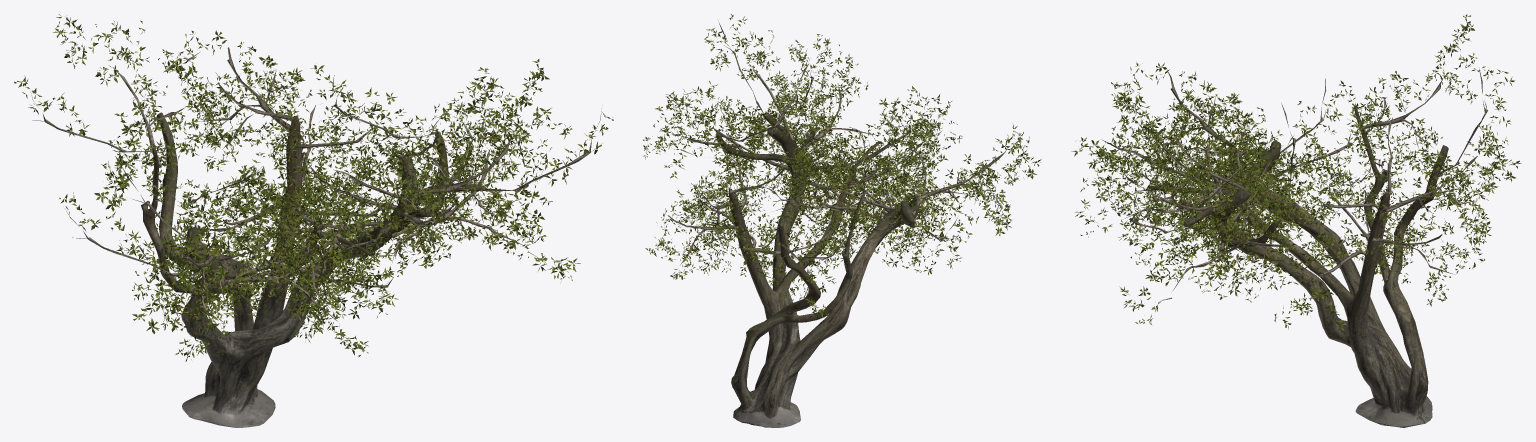
The model's file is tree.gltf.
3 views of the same model, side by side, from view 1: azimuth 30°, elevation 25°; view 2: azimuth 150°, elevation 25°; view 3: azimuth 270°, elevation 25° (orthographic). The views are drawn at different scales.
Visible parts, largest first — view 1: island_tree_02_LOD0; view 2: island_tree_02_LOD0; view 3: island_tree_02_LOD0.
Boxes of the visible parts, box(x1,y1,x2,y2) form: island_tree_02_LOD0: box(14, 14, 613, 427); island_tree_02_LOD0: box(643, 14, 1041, 427); island_tree_02_LOD0: box(1071, 14, 1521, 427).
Size of the model in its own units: 3.9 by 3.41 by 4.07.
Materials: 3 (3 with a texture image).
